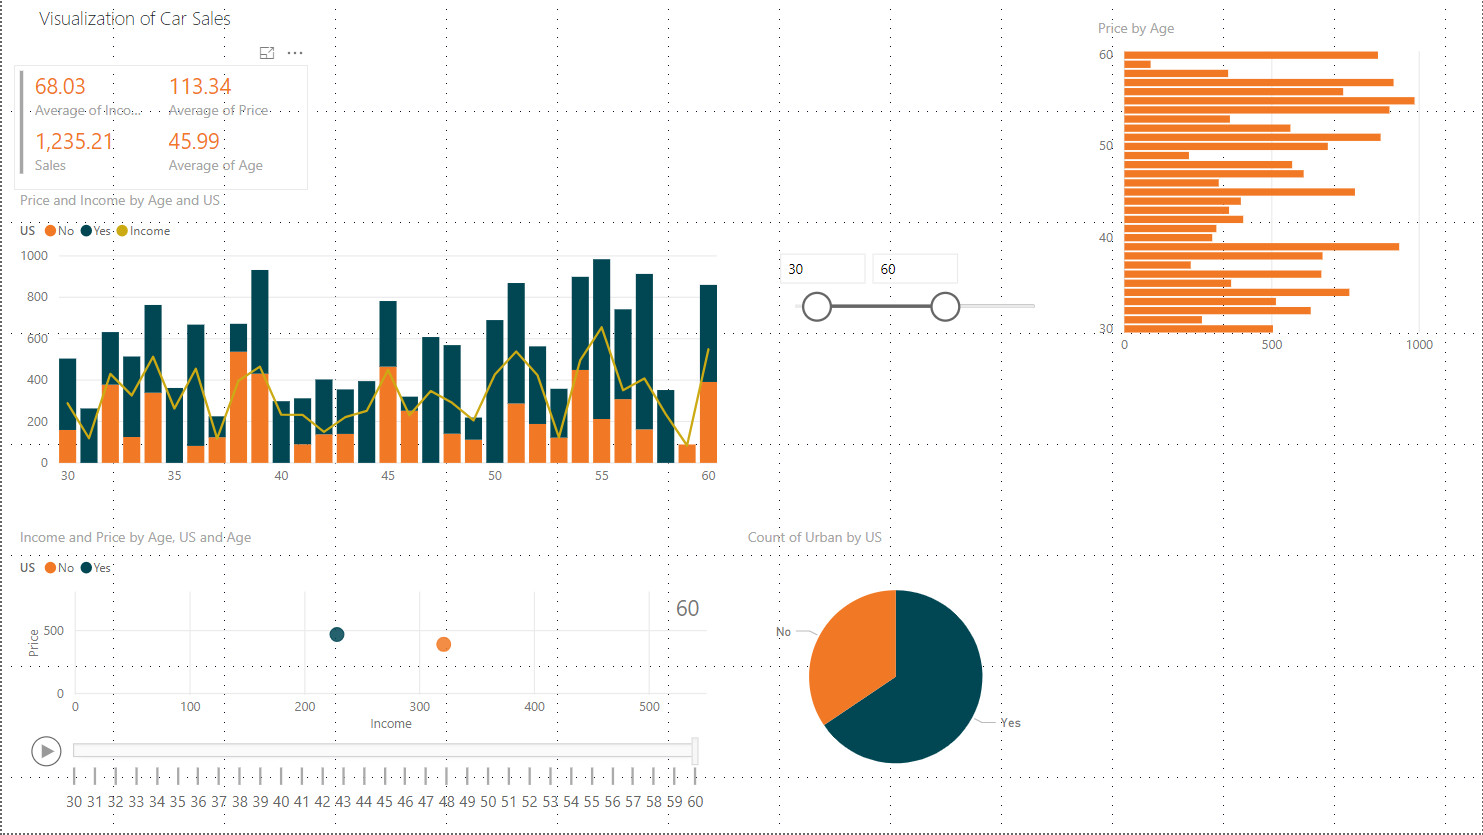

The page's visual inventory and layout, read from the dashboard file:
{"tool":"powerbi","page":{"name":"Page 1","canvas":[1280,720],"ordinal":0},"visuals":[{"type":"textbox","box":[10.4,0,208.4,31.1],"z":0},{"type":"pieChart","fields":{"Category":["carTrain.US"],"Y":["CountNonNull(carTrain.Urban)"]},"box":[640,455.8,265.5,243],"z":1000},{"type":"barChart","fields":{"Category":["carTrain.Age"],"Y":["Sum(carTrain.Price)"]},"box":[942.7,15.6,300.1,300.1],"z":2000},{"type":"slicer","fields":{"Values":["carTrain.Age"]},"box":[659.9,209.3,254.3,93.4],"z":3000},{"type":"multiRowCard","fields":{"Values":["Avg(carTrain.Income)","Avg(carTrain.Price)","Sum(carTrain.Sales)","Avg(carTrain.Age)"]},"box":[10.4,56.2,254.3,108.1],"z":4000},{"type":"lineStackedColumnComboChart","fields":{"Category":["carTrain.Age"],"Y2":["Sum(carTrain.Income)"],"Series":["carTrain.US"],"Y":["Sum(carTrain.Price)"]},"box":[10.4,164.3,613.2,264.6],"z":5000},{"type":"scatterChart","fields":{"Category":["carTrain.Age"],"X":["Sum(carTrain.Income)"],"Y":["Sum(carTrain.Price)"],"Play":["carTrain.Age"],"Series":["carTrain.US"]},"box":[10.4,455.8,613.2,264.6],"z":6000}]}

Visuals, with their boxes in screenshot pixels (x1, y1, x2, y2), scaled from the page's 1280x720 canvas onto the 1483x835 screenshot:
textbox: crop(12, 0, 254, 36)
pieChart - carTrain.US x CountNonNull(carTrain.Urban): crop(742, 529, 1049, 810)
barChart - carTrain.Age x Sum(carTrain.Price): crop(1092, 18, 1440, 366)
slicer - carTrain.Age: crop(765, 243, 1059, 351)
multiRowCard - Avg(carTrain.Income) x Avg(carTrain.Price): crop(12, 65, 307, 191)
lineStackedColumnComboChart - carTrain.Age x Sum(carTrain.Income): crop(12, 191, 722, 497)
scatterChart - carTrain.Age x Sum(carTrain.Income): crop(12, 529, 722, 834)
